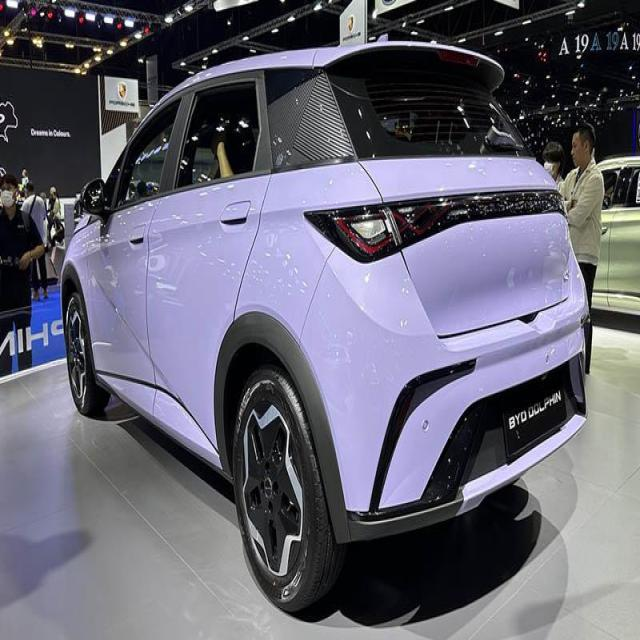Hatchback: (62, 41, 591, 617)
